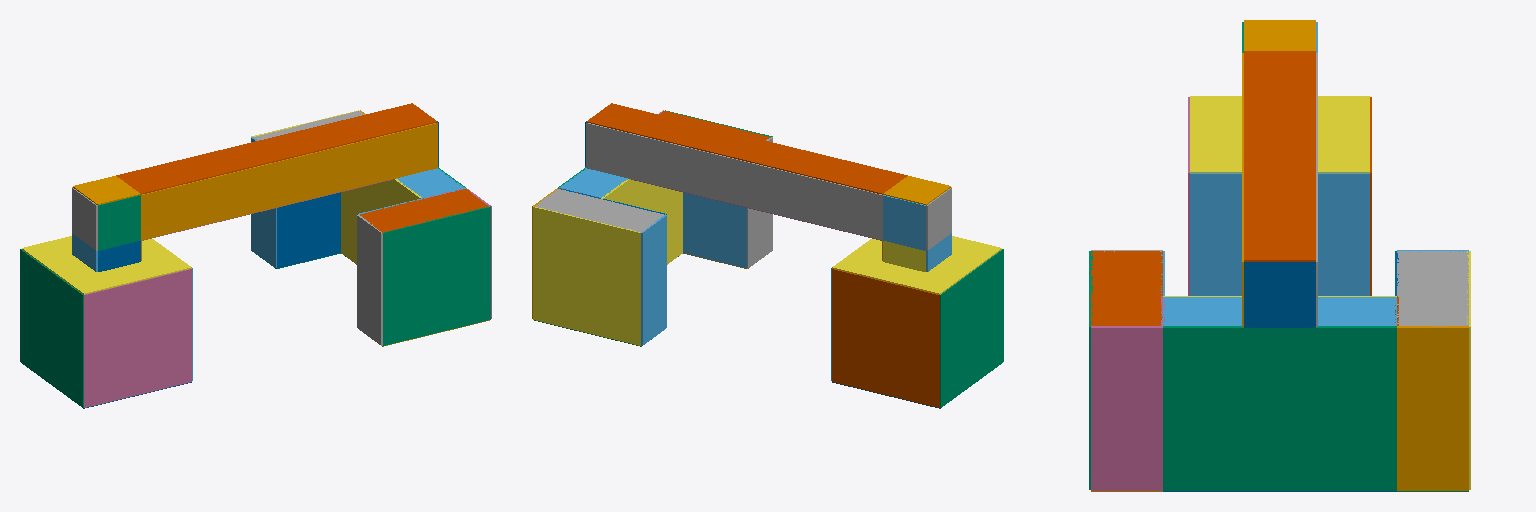
--- What the picture shows (computed from the rendered views, not written in the file) ---
The picture shows the robot from 3 angles, left to right: view 1: azimuth 30°, elevation 25°; view 2: azimuth 150°, elevation 25°; view 3: azimuth 270°, elevation 25°; orthographic projection.
Model robot with 65 links and 64 joints (2 continuous, 62 fixed), rooted at body, posed every joint at zero.
Visible links, largest first — view 1: arm_sensor_0_right, hand_3_sensor_0_right, body_sensor_0_right, arm_sensor_0_top, body_sensor_0_stop, body_sensor_0_top, hand_2_sensor_0_right, hand_3_sensor_0_stop, hand_3, hand_1_sensor_0_stop, joint_2_sensor_0_right, hand_2_sensor_0_stop (+6 smaller); view 2: arm_sensor_0_left, hand_2_sensor_0_left, body_sensor_0_left, arm_sensor_0_top, body_sensor_0_stop, body_sensor_0_top, hand_3_sensor_0_left, hand_2_sensor_0_stop, hand_2, hand_1_sensor_0_stop, joint_2_sensor_0_left, hand_3_sensor_0_stop (+6 smaller); view 3: hand_1_sensor_0_start, arm_sensor_0_top, body_sensor_0_start, hand_3_sensor_0_start, hand_2_sensor_0_start, body_sensor_0_top, hand_2, hand_3, arm_sensor_0_start, hand_1, joint_2_sensor_0_top, arm_sensor_0_left (+2 smaller).
Boxes of the visible links, bbox=[...] form: arm_sensor_0_right: bbox=[141, 123, 437, 240]; hand_3_sensor_0_right: bbox=[383, 206, 490, 345]; body_sensor_0_right: bbox=[84, 269, 191, 407]; arm_sensor_0_top: bbox=[116, 103, 436, 194]; body_sensor_0_stop: bbox=[20, 249, 83, 407]; body_sensor_0_top: bbox=[22, 236, 191, 294]; hand_2_sensor_0_right: bbox=[277, 192, 340, 268]; hand_3_sensor_0_stop: bbox=[357, 214, 382, 345]; hand_3: bbox=[360, 189, 488, 232]; hand_1_sensor_0_stop: bbox=[341, 179, 421, 264]; joint_2_sensor_0_right: bbox=[98, 195, 140, 250]; hand_2_sensor_0_stop: bbox=[251, 137, 276, 267]; arm_sensor_0_left: bbox=[586, 123, 882, 240]; hand_2_sensor_0_left: bbox=[533, 206, 640, 345]; body_sensor_0_left: bbox=[832, 269, 939, 407]; arm_sensor_0_top: bbox=[587, 103, 907, 194]; body_sensor_0_stop: bbox=[940, 249, 1003, 407]; body_sensor_0_top: bbox=[832, 236, 1001, 294]; hand_3_sensor_0_left: bbox=[683, 192, 746, 268]; hand_2_sensor_0_stop: bbox=[641, 214, 666, 345]; hand_2: bbox=[535, 189, 663, 232]; hand_1_sensor_0_stop: bbox=[601, 179, 682, 264]; joint_2_sensor_0_left: bbox=[883, 195, 925, 250]; hand_3_sensor_0_stop: bbox=[747, 137, 772, 267]; hand_1_sensor_0_start: bbox=[1163, 326, 1396, 490]; arm_sensor_0_top: bbox=[1244, 51, 1315, 261]; body_sensor_0_start: bbox=[1190, 173, 1369, 295]; hand_3_sensor_0_start: bbox=[1091, 326, 1162, 490]; hand_2_sensor_0_start: bbox=[1397, 326, 1468, 490]; body_sensor_0_top: bbox=[1190, 96, 1369, 172]; hand_2: bbox=[1397, 251, 1468, 326]; hand_3: bbox=[1091, 251, 1162, 325]; arm_sensor_0_start: bbox=[1244, 262, 1315, 327]; hand_1: bbox=[1163, 297, 1396, 325]; joint_2_sensor_0_top: bbox=[1244, 20, 1315, 50]; arm_sensor_0_left: bbox=[1316, 53, 1317, 326].
Bounding box of the posed robot: 3.47 × 2.12 × 1.62 m (x, y, z).
Geometry: primitives only (box / cylinder / sphere), no mesh files.

robot.urdf — robot:
<?xml version="1.0"?>
    <robot name="robot">


    <!-- body -->
    <link name="body">
        <inertial>
            <origin xyz="0 0 0" rpy="0 0 0"/>
            <mass value="100"/>
            <inertia ixx=".1" ixy=".1" ixz=".1" iyy=".1" iyz=".1" izz=".1"/>
        </inertial>
        <visual>
            <origin xyz="0 0 0" rpy="0 0 0"/>
            <geometry>
                <box size="1 1 1"/>
            </geometry>
        </visual>
        <collision>
            <origin xyz="0 0 0" rpy="0 0 0"/>
            <geometry>
                <box size="1 1 1"/>
            </geometry>
        </collision>
    </link>


    <!-- body_sensor_0_start -->
    <link name="body_sensor_0_start">
        <inertial>
            <origin xyz="0 0 0" rpy="0 0 0"/>
            <mass value="0"/>
            <inertia ixx=".1" ixy=".1" ixz=".1" iyy=".1" iyz=".1" izz=".1"/>
        </inertial>
        <visual>
            <origin xyz="0 0 0" rpy="0 0 0"/>
            <geometry>
                <box size="0.02 1 1"/>
            </geometry>
        </visual>
        <collision>
            <origin xyz="0 0 0" rpy="0 0 0"/>
            <geometry>
                <box size="0.02 1 1"/>
            </geometry>
        </collision>
    </link>
    <!-- Joint: body, body_sensor_0_start -->
    <joint name="body_body_sensor_0_start_joint" type="fixed">
        <parent link="body"/>
        <child link="body_sensor_0_start"/>
        <origin xyz="0.5 0 0"
                rpy="0 0 0"/>
        <axis xyz="0 0 1"/>
        
    </joint>


    <!-- body_sensor_0_stop -->
    <link name="body_sensor_0_stop">
        <inertial>
            <origin xyz="0 0 0" rpy="0 0 0"/>
            <mass value="0"/>
            <inertia ixx=".1" ixy=".1" ixz=".1" iyy=".1" iyz=".1" izz=".1"/>
        </inertial>
        <visual>
            <origin xyz="0 0 0" rpy="0 0 0"/>
            <geometry>
                <box size="0.02 1 1"/>
            </geometry>
        </visual>
        <collision>
            <origin xyz="0 0 0" rpy="0 0 0"/>
            <geometry>
                <box size="0.02 1 1"/>
            </geometry>
        </collision>
    </link>
    <!-- Joint: body, body_sensor_0_stop -->
    <joint name="body_body_sensor_0_stop_joint" type="fixed">
        <parent link="body"/>
        <child link="body_sensor_0_stop"/>
        <origin xyz="-0.5 0 0"
                rpy="0 0 0"/>
        <axis xyz="0 0 1"/>
        
    </joint>


    <!-- body_sensor_0_top -->
    <link name="body_sensor_0_top">
        <inertial>
            <origin xyz="0 0 0" rpy="0 0 0"/>
            <mass value="0"/>
            <inertia ixx=".1" ixy=".1" ixz=".1" iyy=".1" iyz=".1" izz=".1"/>
        </inertial>
        <visual>
            <origin xyz="0 0 0" rpy="0 0 0"/>
            <geometry>
                <box size="1.0 1 0.02"/>
            </geometry>
        </visual>
        <collision>
            <origin xyz="0 0 0" rpy="0 0 0"/>
            <geometry>
                <box size="1.0 1 0.02"/>
            </geometry>
        </collision>
    </link>
    <!-- Joint: body, body_sensor_0_top -->
    <joint name="body_body_sensor_0_top_joint" type="fixed">
        <parent link="body"/>
        <child link="body_sensor_0_top"/>
        <origin xyz="0 0 0.5"
                rpy="0 0 0"/>
        <axis xyz="0 0 1"/>
        
    </joint>


    <!-- body_sensor_0_bottom -->
    <link name="body_sensor_0_bottom">
        <inertial>
            <origin xyz="0 0 0" rpy="0 0 0"/>
            <mass value="0"/>
            <inertia ixx=".1" ixy=".1" ixz=".1" iyy=".1" iyz=".1" izz=".1"/>
        </inertial>
        <visual>
            <origin xyz="0 0 0" rpy="0 0 0"/>
            <geometry>
                <box size="1.0 1 0.02"/>
            </geometry>
        </visual>
        <collision>
            <origin xyz="0 0 0" rpy="0 0 0"/>
            <geometry>
                <box size="1.0 1 0.02"/>
            </geometry>
        </collision>
    </link>
    <!-- Joint: body, body_sensor_0_bottom -->
    <joint name="body_body_sensor_0_bottom_joint" type="fixed">
        <parent link="body"/>
        <child link="body_sensor_0_bottom"/>
        <origin xyz="0 0 -0.5"
                rpy="0 0 0"/>
        <axis xyz="0 0 1"/>
        
    </joint>


    <!-- body_sensor_0_left -->
    <link name="body_sensor_0_left">
        <inertial>
            <origin xyz="0 0 0" rpy="0 0 0"/>
            <mass value="0"/>
            <inertia ixx=".1" ixy=".1" ixz=".1" iyy=".1" iyz=".1" izz=".1"/>
        </inertial>
        <visual>
            <origin xyz="0 0 0" rpy="0 0 0"/>
            <geometry>
                <box size="1.0 0.02 1"/>
            </geometry>
        </visual>
        <collision>
            <origin xyz="0 0 0" rpy="0 0 0"/>
            <geometry>
                <box size="1.0 0.02 1"/>
            </geometry>
        </collision>
    </link>
    <!-- Joint: body, body_sensor_0_left -->
    <joint name="body_body_sensor_0_left_joint" type="fixed">
        <parent link="body"/>
        <child link="body_sensor_0_left"/>
        <origin xyz="0 0.5 0"
                rpy="0 0 0"/>
        <axis xyz="0 0 1"/>
        
    </joint>


    <!-- body_sensor_0_right -->
    <link name="body_sensor_0_right">
        <inertial>
            <origin xyz="0 0 0" rpy="0 0 0"/>
            <mass value="0"/>
            <inertia ixx=".1" ixy=".1" ixz=".1" iyy=".1" iyz=".1" izz=".1"/>
        </inertial>
        <visual>
            <origin xyz="0 0 0" rpy="0 0 0"/>
            <geometry>
                <box size="1.0 0.02 1"/>
            </geometry>
        </visual>
        <collision>
            <origin xyz="0 0 0" rpy="0 0 0"/>
            <geometry>
                <box size="1.0 0.02 1"/>
            </geometry>
        </collision>
    </link>
    <!-- Joint: body, body_sensor_0_right -->
    <joint name="body_body_sensor_0_right_joint" type="fixed">
        <parent link="body"/>
        <child link="body_sensor_0_right"/>
        <origin xyz="0 -0.5 0"
                rpy="0 0 0"/>
        <axis xyz="0 0 1"/>
        
    </joint>


    <!-- joint_1 -->
    <link name="joint_1">
        <inertial>
            <origin xyz="0 0 0" rpy="0 0 0"/>
            <mass value="2"/>
            <inertia ixx=".1" ixy=".1" ixz=".1" iyy=".1" iyz=".1" izz=".1"/>
        </inertial>
        <visual>
            <origin xyz="0 0 0" rpy="0 0 0"/>
            <geometry>
                <box size="0.4 0.4 0.2"/>
            </geometry>
        </visual>
        <collision>
            <origin xyz="0 0 0" rpy="0 0 0"/>
            <geometry>
                <box size="0.4 0.4 0.2"/>
            </geometry>
        </collision>
    </link>


    <!-- joint_1_sensor_0_start -->
    <link name="joint_1_sensor_0_start">
        <inertial>
            <origin xyz="0 0 0" rpy="0 0 0"/>
            <mass value="0"/>
            <inertia ixx=".1" ixy=".1" ixz=".1" iyy=".1" iyz=".1" izz=".1"/>
        </inertial>
        <visual>
            <origin xyz="0 0 0" rpy="0 0 0"/>
            <geometry>
                <box size="0.02 0.4 0.2"/>
            </geometry>
        </visual>
        <collision>
            <origin xyz="0 0 0" rpy="0 0 0"/>
            <geometry>
                <box size="0.02 0.4 0.2"/>
            </geometry>
        </collision>
    </link>
    <!-- Joint: joint_1, joint_1_sensor_0_start -->
    <joint name="joint_1_joint_1_sensor_0_start_joint" type="fixed">
        <parent link="joint_1"/>
        <child link="joint_1_sensor_0_start"/>
        <origin xyz="0.2 0 0"
                rpy="0 0 0"/>
        <axis xyz="0 0 1"/>
        
    </joint>


    <!-- joint_1_sensor_0_stop -->
    <link name="joint_1_sensor_0_stop">
        <inertial>
            <origin xyz="0 0 0" rpy="0 0 0"/>
            <mass value="0"/>
            <inertia ixx=".1" ixy=".1" ixz=".1" iyy=".1" iyz=".1" izz=".1"/>
        </inertial>
        <visual>
            <origin xyz="0 0 0" rpy="0 0 0"/>
            <geometry>
                <box size="0.02 0.4 0.2"/>
            </geometry>
        </visual>
        <collision>
            <origin xyz="0 0 0" rpy="0 0 0"/>
            <geometry>
                <box size="0.02 0.4 0.2"/>
            </geometry>
        </collision>
    </link>
    <!-- Joint: joint_1, joint_1_sensor_0_stop -->
    <joint name="joint_1_joint_1_sensor_0_stop_joint" type="fixed">
        <parent link="joint_1"/>
        <child link="joint_1_sensor_0_stop"/>
        <origin xyz="-0.2 0 0"
                rpy="0 0 0"/>
        <axis xyz="0 0 1"/>
        
    </joint>


    <!-- joint_1_sensor_0_top -->
    <link name="joint_1_sensor_0_top">
        <inertial>
            <origin xyz="0 0 0" rpy="0 0 0"/>
            <mass value="0"/>
            <inertia ixx=".1" ixy=".1" ixz=".1" iyy=".1" iyz=".1" izz=".1"/>
        </inertial>
        <visual>
            <origin xyz="0 0 0" rpy="0 0 0"/>
            <geometry>
                <box size="0.4 0.4 0.02"/>
            </geometry>
        </visual>
        <collision>
            <origin xyz="0 0 0" rpy="0 0 0"/>
            <geometry>
                <box size="0.4 0.4 0.02"/>
            </geometry>
        </collision>
    </link>
    <!-- Joint: joint_1, joint_1_sensor_0_top -->
    <joint name="joint_1_joint_1_sensor_0_top_joint" type="fixed">
        <parent link="joint_1"/>
        <child link="joint_1_sensor_0_top"/>
        <origin xyz="0 0 0.1"
                rpy="0 0 0"/>
        <axis xyz="0 0 1"/>
        
    </joint>


    <!-- joint_1_sensor_0_left -->
    <link name="joint_1_sensor_0_left">
        <inertial>
            <origin xyz="0 0 0" rpy="0 0 0"/>
            <mass value="0"/>
            <inertia ixx=".1" ixy=".1" ixz=".1" iyy=".1" iyz=".1" izz=".1"/>
        </inertial>
        <visual>
            <origin xyz="0 0 0" rpy="0 0 0"/>
            <geometry>
                <box size="0.4 0.02 0.2"/>
            </geometry>
        </visual>
        <collision>
            <origin xyz="0 0 0" rpy="0 0 0"/>
            <geometry>
                <box size="0.4 0.02 0.2"/>
            </geometry>
        </collision>
    </link>
    <!-- Joint: joint_1, joint_1_sensor_0_left -->
    <joint name="joint_1_joint_1_sensor_0_left_joint" type="fixed">
        <parent link="joint_1"/>
        <child link="joint_1_sensor_0_left"/>
        <origin xyz="0 0.2 0"
                rpy="0 0 0"/>
        <axis xyz="0 0 1"/>
        
    </joint>


    <!-- joint_1_sensor_0_right -->
    <link name="joint_1_sensor_0_right">
        <inertial>
            <origin xyz="0 0 0" rpy="0 0 0"/>
            <mass value="0"/>
            <inertia ixx=".1" ixy=".1" ixz=".1" iyy=".1" iyz=".1" izz=".1"/>
        </inertial>
        <visual>
            <origin xyz="0 0 0" rpy="0 0 0"/>
            <geometry>
                <box size="0.4 0.02 0.2"/>
            </geometry>
        </visual>
        <collision>
            <origin xyz="0 0 0" rpy="0 0 0"/>
            <geometry>
                <box size="0.4 0.02 0.2"/>
            </geometry>
        </collision>
    </link>
    <!-- Joint: joint_1, joint_1_sensor_0_right -->
    <joint name="joint_1_joint_1_sensor_0_right_joint" type="fixed">
        <parent link="joint_1"/>
        <child link="joint_1_sensor_0_right"/>
        <origin xyz="0 -0.2 0"
                rpy="0 0 0"/>
        <axis xyz="0 0 1"/>
        
    </joint>
    <!-- Joint: body, joint_1 -->
    <joint name="body_joint_1_joint" type="continuous">
        <parent link="body"/>
        <child link="joint_1"/>
        <origin xyz="0 0 0.6"
                rpy="0 0 0"/>
        <axis xyz="0 0 1"/>
        <limit lower="0" upper="0" effort="0" velocity="0"/>
    </joint>


    <!-- joint_2 -->
    <link name="joint_2">
        <inertial>
            <origin xyz="0 0 0" rpy="0 0 0"/>
            <mass value="2"/>
            <inertia ixx=".1" ixy=".1" ixz=".1" iyy=".1" iyz=".1" izz=".1"/>
        </inertial>
        <visual>
            <origin xyz="0 0 0" rpy="0 0 0"/>
            <geometry>
                <box size="0.4 0.4 0.4"/>
            </geometry>
        </visual>
        <collision>
            <origin xyz="0 0 0" rpy="0 0 0"/>
            <geometry>
                <box size="0.4 0.4 0.4"/>
            </geometry>
        </collision>
    </link>


    <!-- joint_2_sensor_0_start -->
    <link name="joint_2_sensor_0_start">
        <inertial>
            <origin xyz="0 0 0" rpy="0 0 0"/>
            <mass value="0"/>
            <inertia ixx=".1" ixy=".1" ixz=".1" iyy=".1" iyz=".1" izz=".1"/>
        </inertial>
        <visual>
            <origin xyz="0 0 0" rpy="0 0 0"/>
            <geometry>
                <box size="0.02 0.4 0.4"/>
            </geometry>
        </visual>
        <collision>
            <origin xyz="0 0 0" rpy="0 0 0"/>
            <geometry>
                <box size="0.02 0.4 0.4"/>
            </geometry>
        </collision>
    </link>
    <!-- Joint: joint_2, joint_2_sensor_0_start -->
    <joint name="joint_2_joint_2_sensor_0_start_joint" type="fixed">
        <parent link="joint_2"/>
        <child link="joint_2_sensor_0_start"/>
        <origin xyz="0.2 0 0"
                rpy="0 0 0"/>
        <axis xyz="0 1 0"/>
        
    </joint>


    <!-- joint_2_sensor_0_stop -->
    <link name="joint_2_sensor_0_stop">
        <inertial>
            <origin xyz="0 0 0" rpy="0 0 0"/>
            <mass value="0"/>
            <inertia ixx=".1" ixy=".1" ixz=".1" iyy=".1" iyz=".1" izz=".1"/>
        </inertial>
        <visual>
            <origin xyz="0 0 0" rpy="0 0 0"/>
            <geometry>
                <box size="0.02 0.4 0.4"/>
            </geometry>
        </visual>
        <collision>
            <origin xyz="0 0 0" rpy="0 0 0"/>
            <geometry>
                <box size="0.02 0.4 0.4"/>
            </geometry>
        </collision>
    </link>
    <!-- Joint: joint_2, joint_2_sensor_0_stop -->
    <joint name="joint_2_joint_2_sensor_0_stop_joint" type="fixed">
        <parent link="joint_2"/>
        <child link="joint_2_sensor_0_stop"/>
        <origin xyz="-0.2 0 0"
                rpy="0 0 0"/>
        <axis xyz="0 1 0"/>
        
    </joint>


    <!-- joint_2_sensor_0_top -->
    <link name="joint_2_sensor_0_top">
        <inertial>
            <origin xyz="0 0 0" rpy="0 0 0"/>
            <mass value="0"/>
            <inertia ixx=".1" ixy=".1" ixz=".1" iyy=".1" iyz=".1" izz=".1"/>
        </inertial>
        <visual>
            <origin xyz="0 0 0" rpy="0 0 0"/>
            <geometry>
                <box size="0.4 0.4 0.02"/>
            </geometry>
        </visual>
        <collision>
            <origin xyz="0 0 0" rpy="0 0 0"/>
            <geometry>
                <box size="0.4 0.4 0.02"/>
            </geometry>
        </collision>
    </link>
    <!-- Joint: joint_2, joint_2_sensor_0_top -->
    <joint name="joint_2_joint_2_sensor_0_top_joint" type="fixed">
        <parent link="joint_2"/>
        <child link="joint_2_sensor_0_top"/>
        <origin xyz="0 0 0.2"
                rpy="0 0 0"/>
        <axis xyz="0 1 0"/>
        
    </joint>


    <!-- joint_2_sensor_0_left -->
    <link name="joint_2_sensor_0_left">
        <inertial>
            <origin xyz="0 0 0" rpy="0 0 0"/>
            <mass value="0"/>
            <inertia ixx=".1" ixy=".1" ixz=".1" iyy=".1" iyz=".1" izz=".1"/>
        </inertial>
        <visual>
            <origin xyz="0 0 0" rpy="0 0 0"/>
            <geometry>
                <box size="0.4 0.02 0.4"/>
            </geometry>
        </visual>
        <collision>
            <origin xyz="0 0 0" rpy="0 0 0"/>
            <geometry>
                <box size="0.4 0.02 0.4"/>
            </geometry>
        </collision>
    </link>
    <!-- Joint: joint_2, joint_2_sensor_0_left -->
    <joint name="joint_2_joint_2_sensor_0_left_joint" type="fixed">
        <parent link="joint_2"/>
        <child link="joint_2_sensor_0_left"/>
        <origin xyz="0 0.2 0"
                rpy="0 0 0"/>
        <axis xyz="0 1 0"/>
        
    </joint>


    <!-- joint_2_sensor_0_right -->
    <link name="joint_2_sensor_0_right">
        <inertial>
            <origin xyz="0 0 0" rpy="0 0 0"/>
            <mass value="0"/>
            <inertia ixx=".1" ixy=".1" ixz=".1" iyy=".1" iyz=".1" izz=".1"/>
        </inertial>
        <visual>
            <origin xyz="0 0 0" rpy="0 0 0"/>
            <geometry>
                <box size="0.4 0.02 0.4"/>
            </geometry>
        </visual>
        <collision>
            <origin xyz="0 0 0" rpy="0 0 0"/>
            <geometry>
                <box size="0.4 0.02 0.4"/>
            </geometry>
        </collision>
    </link>
    <!-- Joint: joint_2, joint_2_sensor_0_right -->
    <joint name="joint_2_joint_2_sensor_0_right_joint" type="fixed">
        <parent link="joint_2"/>
        <child link="joint_2_sensor_0_right"/>
        <origin xyz="0 -0.2 0"
                rpy="0 0 0"/>
        <axis xyz="0 1 0"/>
        
    </joint>
    <!-- Joint: joint_1, joint_2 -->
    <joint name="joint_1_joint_2_joint" type="continuous">
        <parent link="joint_1"/>
        <child link="joint_2"/>
        <origin xyz="0 0 0.3"
                rpy="0 0 0"/>
        <axis xyz="0 1 0"/>
        <limit lower="0" upper="0" effort="0" velocity="0"/>
    </joint>


    <!-- arm -->
    <link name="arm">
        <inertial>
            <origin xyz="0 0 0" rpy="0 0 0"/>
            <mass value="2"/>
            <inertia ixx=".1" ixy=".1" ixz=".1" iyy=".1" iyz=".1" izz=".1"/>
        </inertial>
        <visual>
            <origin xyz="0 0 0" rpy="0 0 0"/>
            <geometry>
                <box size="2.75 0.4 0.4"/>
            </geometry>
        </visual>
        <collision>
            <origin xyz="0 0 0" rpy="0 0 0"/>
            <geometry>
                <box size="2.75 0.4 0.4"/>
            </geometry>
        </collision>
    </link>


    <!-- arm_sensor_0_start -->
    <link name="arm_sensor_0_start">
        <inertial>
            <origin xyz="0 0 0" rpy="0 0 0"/>
            <mass value="0"/>
            <inertia ixx=".1" ixy=".1" ixz=".1" iyy=".1" iyz=".1" izz=".1"/>
        </inertial>
        <visual>
            <origin xyz="0 0 0" rpy="0 0 0"/>
            <geometry>
                <box size="0.02 0.4 0.4"/>
            </geometry>
        </visual>
        <collision>
            <origin xyz="0 0 0" rpy="0 0 0"/>
            <geometry>
                <box size="0.02 0.4 0.4"/>
            </geometry>
        </collision>
    </link>
    <!-- Joint: arm, arm_sensor_0_start -->
    <joint name="arm_arm_sensor_0_start_joint" type="fixed">
        <parent link="arm"/>
        <child link="arm_sensor_0_start"/>
        <origin xyz="1.375 0 0"
                rpy="0 0 0"/>
        <axis xyz="0 1 0"/>
        
    </joint>


    <!-- arm_sensor_0_top -->
    <link name="arm_sensor_0_top">
        <inertial>
            <origin xyz="0 0 0" rpy="0 0 0"/>
            <mass value="0"/>
            <inertia ixx=".1" ixy=".1" ixz=".1" iyy=".1" iyz=".1" izz=".1"/>
        </inertial>
        <visual>
            <origin xyz="0 0 0" rpy="0 0 0"/>
            <geometry>
                <box size="2.75 0.4 0.02"/>
            </geometry>
        </visual>
        <collision>
            <origin xyz="0 0 0" rpy="0 0 0"/>
            <geometry>
                <box size="2.75 0.4 0.02"/>
            </geometry>
        </collision>
    </link>
    <!-- Joint: arm, arm_sensor_0_top -->
    <joint name="arm_arm_sensor_0_top_joint" type="fixed">
        <parent link="arm"/>
        <child link="arm_sensor_0_top"/>
        <origin xyz="0 0 0.2"
                rpy="0 0 0"/>
        <axis xyz="0 1 0"/>
        
    </joint>


    <!-- arm_sensor_0_bottom -->
    <link name="arm_sensor_0_bottom">
        <inertial>
            <origin xyz="0 0 0" rpy="0 0 0"/>
            <mass value="0"/>
            <inertia ixx=".1" ixy=".1" ixz=".1" iyy=".1" iyz=".1" izz=".1"/>
        </inertial>
        <visual>
            <origin xyz="0 0 0" rpy="0 0 0"/>
            <geometry>
                <box size="2.75 0.4 0.02"/>
            </geometry>
        </visual>
        <collision>
            <origin xyz="0 0 0" rpy="0 0 0"/>
            <geometry>
                <box size="2.75 0.4 0.02"/>
            </geometry>
        </collision>
    </link>
    <!-- Joint: arm, arm_sensor_0_bottom -->
    <joint name="arm_arm_sensor_0_bottom_joint" type="fixed">
        <parent link="arm"/>
        <child link="arm_sensor_0_bottom"/>
        <origin xyz="0 0 -0.2"
                rpy="0 0 0"/>
        <axis xyz="0 1 0"/>
        
    </joint>


    <!-- arm_sensor_0_left -->
    <link name="arm_sensor_0_left">
        <inertial>
            <origin xyz="0 0 0" rpy="0 0 0"/>
            <mass value="0"/>
            <inertia ixx=".1" ixy=".1" ixz=".1" iyy=".1" iyz=".1" izz=".1"/>
        </inertial>
        <visual>
            <origin xyz="0 0 0" rpy="0 0 0"/>
            <geometry>
                <box size="2.75 0.02 0.4"/>
            </geometry>
        </visual>
        <collision>
            <origin xyz="0 0 0" rpy="0 0 0"/>
            <geometry>
                <box size="2.75 0.02 0.4"/>
            </geometry>
        </collision>
    </link>
    <!-- Joint: arm, arm_sensor_0_left -->
    <joint name="arm_arm_sensor_0_left_joint" type="fixed">
        <parent link="arm"/>
        <child link="arm_sensor_0_left"/>
        <origin xyz="0 0.2 0"
                rpy="0 0 0"/>
        <axis xyz="0 1 0"/>
        
    </joint>


    <!-- arm_sensor_0_right -->
    <link name="arm_sensor_0_right">
        <inertial>
            <origin xyz="0 0 0" rpy="0 0 0"/>
            <mass value="0"/>
            <inertia ixx=".1" ixy=".1" ixz=".1" iyy=".1" iyz=".1" izz=".1"/>
        </inertial>
        <visual>
            <origin xyz="0 0 0" rpy="0 0 0"/>
            <geometry>
                <box size="2.75 0.02 0.4"/>
            </geometry>
        </visual>
        <collision>
            <origin xyz="0 0 0" rpy="0 0 0"/>
            <geometry>
                <box size="2.75 0.02 0.4"/>
            </geometry>
        </collision>
    </link>
    <!-- Joint: arm, arm_sensor_0_right -->
    <joint name="arm_arm_sensor_0_right_joint" type="fixed">
        <parent link="arm"/>
        <child link="arm_sensor_0_right"/>
        <origin xyz="0 -0.2 0"
                rpy="0 0 0"/>
        <axis xyz="0 1 0"/>
        
    </joint>
    <!-- Joint: joint_2, arm -->
    <joint name="joint_2_arm_joint" type="fixed">
        <parent link="joint_2"/>
        <child link="arm"/>
        <origin xyz="1.575 0 0"
                rpy="0 0 0"/>
        <axis xyz="0 1 0"/>
        
    </joint>


    <!-- hand_1 -->
    <link name="hand_1">
        <inertial>
            <origin xyz="0 0 0" rpy="0 0 0"/>
            <mass value="2"/>
            <inertia ixx=".1" ixy=".1" ixz=".1" iyy=".1" iyz=".1" izz=".1"/>
        </inertial>
        <visual>
            <origin xyz="0 0 0" rpy="0 0 0"/>
            <geometry>
                <box size="0.4 1.3 1"/>
            </geometry>
        </visual>
        <collision>
            <origin xyz="0 0 0" rpy="0 0 0"/>
            <geometry>
                <box size="0.4 1.3 1"/>
            </geometry>
        </collision>
    </link>


    <!-- hand_1_sensor_0_start -->
    <link name="hand_1_sensor_0_start">
        <inertial>
            <origin xyz="0 0 0" rpy="0 0 0"/>
            <mass value="0"/>
            <inertia ixx=".1" ixy=".1" ixz=".1" iyy=".1" iyz=".1" izz=".1"/>
        </inertial>
        <visual>
            <origin xyz="0 0 0" rpy="0 0 0"/>
            <geometry>
                <box size="0.02 1.3 1"/>
            </geometry>
        </visual>
        <collision>
            <origin xyz="0 0 0" rpy="0 0 0"/>
            <geometry>
                <box size="0.02 1.3 1"/>
            </geometry>
        </collision>
    </link>
    <!-- Joint: hand_1, hand_1_sensor_0_start -->
    <joint name="hand_1_hand_1_sensor_0_start_joint" type="fixed">
        <parent link="hand_1"/>
        <child link="hand_1_sensor_0_start"/>
        <origin xyz="0.2 0 0"
                rpy="0 0 0"/>
        <axis xyz="0 1 0"/>
        
    </joint>


    <!-- hand_1_sensor_0_stop -->
    <link name="hand_1_sensor_0_stop">
        <inertial>
            <origin xyz="0 0 0" rpy="0 0 0"/>
            <mass value="0"/>
            <inertia ixx=".1" ixy=".1" ixz=".1" iyy=".1" iyz=".1" izz=".1"/>
        </inertial>
        <visual>
            <origin xyz="0 0 0" rpy="0 0 0"/>
            <geometry>
                <box size="0.02 1.3 1"/>
            </geometry>
        </visual>
        <collision>
            <origin xyz="0 0 0" rpy="0 0 0"/>
            <geometry>
                <box size="0.02 1.3 1"/>
            </geometry>
        </collision>
    </link>
    <!-- Joint: hand_1, hand_1_sensor_0_stop -->
    <joint name="hand_1_hand_1_sensor_0_stop_joint" type="fixed">
        <parent link="hand_1"/>
        <child link="hand_1_sensor_0_stop"/>
        <origin xyz="-0.2 0 0"
                rpy="0 0 0"/>
        <axis xyz="0 1 0"/>
        
    </joint>


    <!-- hand_1_sensor_0_bottom -->
    <link name="hand_1_sensor_0_bottom">
        <inertial>
            <origin xyz="0 0 0" rpy="0 0 0"/>
            <mass value="0"/>
            <inertia ixx=".1" ixy=".1" ixz=".1" iyy=".1" iyz=".1" izz=".1"/>
        </inertial>
        <visual>
            <origin xyz="0 0 0" rpy="0 0 0"/>
            <geometry>
                <box size="0.4 1.3 0.02"/>
            </geometry>
        </visual>
        <collision>
            <origin xyz="0 0 0" rpy="0 0 0"/>
            <geometry>
                <box size="0.4 1.3 0.02"/>
            </geometry>
        </collision>
    </link>
    <!-- Joint: hand_1, hand_1_sensor_0_bottom -->
    <joint name="hand_1_hand_1_sensor_0_bottom_joint" type="fixed">
        <parent link="hand_1"/>
        <child link="hand_1_sensor_0_bottom"/>
        <origin xyz="0 0 -0.5"
                rpy="0 0 0"/>
        <axis xyz="0 1 0"/>
        
    </joint>


    <!-- hand_1_sensor_0_left -->
    <link name="hand_1_sensor_0_left">
        <inertial>
            <origin xyz="0 0 0" rpy="0 0 0"/>
            <mass value="0"/>
            <inertia ixx=".1" ixy=".1" ixz=".1" iyy=".1" iyz=".1" izz=".1"/>
        </inertial>
        <visual>
            <origin xyz="0 0 0" rpy="0 0 0"/>
            <geometry>
                <box size="0.4 0.02 1"/>
            </geometry>
        </visual>
        <collision>
            <origin xyz="0 0 0" rpy="0 0 0"/>
            <geometry>
                <box size="0.4 0.02 1"/>
            </geometry>
        </collision>
    </link>
    <!-- Joint: hand_1, hand_1_sensor_0_left -->
    <joint name="hand_1_hand_1_sensor_0_left_joint" type="fixed">
        <parent link="hand_1"/>
        <child link="hand_1_sensor_0_left"/>
        <origin xyz="0 0.65 0"
                rpy="0 0 0"/>
        <axis xyz="0 1 0"/>
        
    </joint>


    <!-- hand_1_sensor_0_right -->
    <link name="hand_1_sensor_0_right">
        <inertial>
            <origin xyz="0 0 0" rpy="0 0 0"/>
            <mass value="0"/>
            <inertia ixx=".1" ixy=".1" ixz=".1" iyy=".1" iyz=".1" izz=".1"/>
        </inertial>
        <visual>
            <origin xyz="0 0 0" rpy="0 0 0"/>
            <geometry>
                <box size="0.4 0.02 1"/>
            </geometry>
        </visual>
        <collision>
            <origin xyz="0 0 0" rpy="0 0 0"/>
            <geometry>
                <box size="0.4 0.02 1"/>
            </geometry>
        </collision>
    </link>
    <!-- Joint: hand_1, hand_1_sensor_0_right -->
    <joint name="hand_1_hand_1_sensor_0_right_joint" type="fixed">
        <parent link="hand_1"/>
        <child link="hand_1_sensor_0_right"/>
        <origin xyz="0 -0.65 0"
                rpy="0 0 0"/>
        <axis xyz="0 1 0"/>
        
    </joint>
    <!-- Joint: arm, hand_1 -->
    <joint name="arm_hand_1_joint" type="fixed">
        <parent link="arm"/>
        <child link="hand_1"/>
        <origin xyz="1.175 0 -0.7"
                rpy="0 0 0"/>
        <axis xyz="0 1 0"/>
        
    </joint>


    <!-- hand_2 -->
    <link name="hand_2">
        <inertial>
            <origin xyz="0 0 0" rpy="0 0 0"/>
            <mass value="2"/>
            <inertia ixx=".1" ixy=".1" ixz=".1" iyy=".1" iyz=".1" izz=".1"/>
        </inertial>
        <visual>
            <origin xyz="0 0 0" rpy="0 0 0"/>
            <geometry>
                <box size="1 0.4 1"/>
            </geometry>
        </visual>
        <collision>
            <origin xyz="0 0 0" rpy="0 0 0"/>
            <geometry>
                <box size="1 0.4 1"/>
            </geometry>
        </collision>
    </link>


    <!-- hand_2_sensor_0_start -->
    <link name="hand_2_sensor_0_start">
        <inertial>
            <origin xyz="0 0 0" rpy="0 0 0"/>
            <mass value="0"/>
            <inertia ixx=".1" ixy=".1" ixz=".1" iyy=".1" iyz=".1" izz=".1"/>
        </inertial>
        <visual>
            <origin xyz="0 0 0" rpy="0 0 0"/>
            <geometry>
                <box size="0.02 0.4 1"/>
            </geometry>
        </visual>
        <collision>
            <origin xyz="0 0 0" rpy="0 0 0"/>
            <geometry>
                <box size="0.02 0.4 1"/>
            </geometry>
        </collision>
    </link>
    <!-- Joint: hand_2, hand_2_sensor_0_start -->
    <joint name="hand_2_hand_2_sensor_0_start_joint" type="fixed">
        <parent link="hand_2"/>
        <child link="hand_2_sensor_0_start"/>
        <origin xyz="0.5 0 0"
                rpy="0 0 0"/>
        <axis xyz="0 1 0"/>
        
    </joint>


    <!-- hand_2_sensor_0_stop -->
    <link name="hand_2_sensor_0_stop">
        <inertial>
            <origin xyz="0 0 0" rpy="0 0 0"/>
            <mass value="0"/>
            <inertia ixx=".1" ixy=".1" ixz=".1" iyy=".1" iyz=".1" izz=".1"/>
        </inertial>
        <visual>
            <origin xyz="0 0 0" rpy="0 0 0"/>
            <geometry>
                <box size="0.02 0.4 1"/>
            </geometry>
        </visual>
        <collision>
            <origin xyz="0 0 0" rpy="0 0 0"/>
            <geometry>
                <box size="0.02 0.4 1"/>
            </geometry>
        </collision>
    </link>
    <!-- Joint: hand_2, hand_2_sensor_0_stop -->
    <joint name="hand_2_hand_2_sensor_0_stop_joint" type="fixed">
        <parent link="hand_2"/>
        <child link="hand_2_sensor_0_stop"/>
        <origin xyz="-0.5 0 0"
                rpy="0 0 0"/>
        <axis xyz="0 1 0"/>
        
    </joint>


    <!-- hand_2_sensor_0_bottom -->
    <link name="hand_2_sensor_0_bottom">
        <inertial>
            <origin xyz="0 0 0" rpy="0 0 0"/>
            <mass value="0"/>
            <inertia ixx=".1" ixy=".1" ixz=".1" iyy=".1" iyz=".1" izz=".1"/>
        </inertial>
        <visual>
            <origin xyz="0 0 0" rpy="0 0 0"/>
            <geometry>
                <box size="1.0 0.4 0.02"/>
            </geometry>
        </visual>
        <collision>
            <origin xyz="0 0 0" rpy="0 0 0"/>
            <geometry>
                <box size="1.0 0.4 0.02"/>
            </geometry>
        </collision>
    </link>
    <!-- Joint: hand_2, hand_2_sensor_0_bottom -->
    <joint name="hand_2_hand_2_sensor_0_bottom_joint" type="fixed">
        <parent link="hand_2"/>
        <child link="hand_2_sensor_0_bottom"/>
        <origin xyz="0 0 -0.5"
                rpy="0 0 0"/>
        <axis xyz="0 1 0"/>
        
    </joint>


    <!-- hand_2_sensor_0_left -->
    <link name="hand_2_sensor_0_left">
        <inertial>
            <origin xyz="0 0 0" rpy="0 0 0"/>
            <mass value="0"/>
            <inertia ixx=".1" ixy=".1" ixz=".1" iyy=".1" iyz=".1" izz=".1"/>
        </inertial>
        <visual>
            <origin xyz="0 0 0" rpy="0 0 0"/>
            <geometry>
                <box size="1.0 0.02 1"/>
            </geometry>
        </visual>
        <collision>
            <origin xyz="0 0 0" rpy="0 0 0"/>
            <geometry>
                <box size="1.0 0.02 1"/>
            </geometry>
        </collision>
    </link>
    <!-- Joint: hand_2, hand_2_sensor_0_left -->
    <joint name="hand_2_hand_2_sensor_0_left_joint" type="fixed">
        <parent link="hand_2"/>
        <child link="hand_2_sensor_0_left"/>
        <origin xyz="0 0.2 0"
                rpy="0 0 0"/>
        <axis xyz="0 1 0"/>
        
    </joint>


    <!-- hand_2_sensor_0_right -->
    <link name="hand_2_sensor_0_right">
        <inertial>
            <origin xyz="0 0 0" rpy="0 0 0"/>
            <mass value="0"/>
            <inertia ixx=".1" ixy=".1" ixz=".1" iyy=".1" iyz=".1" izz=".1"/>
        </inertial>
        <visual>
            <origin xyz="0 0 0" rpy="0 0 0"/>
            <geometry>
                <box size="1.0 0.02 1"/>
            </geometry>
        </visual>
        <collision>
            <origin xyz="0 0 0" rpy="0 0 0"/>
            <geometry>
                <box size="1.0 0.02 1"/>
            </geometry>
        </collision>
    </link>
    <!-- Joint: hand_2, hand_2_sensor_0_right -->
    <joint name="hand_2_hand_2_sensor_0_right_joint" type="fixed">
        <parent link="hand_2"/>
        <child link="hand_2_sensor_0_right"/>
        <origin xyz="0 -0.2 0"
                rpy="0 0 0"/>
        <axis xyz="0 1 0"/>
        
    </joint>
    <!-- Joint: hand_1, hand_2 -->
    <joint name="hand_1_hand_2_joint" type="fixed">
        <parent link="hand_1"/>
        <child link="hand_2"/>
        <origin xyz="-0.3 0.8500000000000001 0"
                rpy="0 0 0"/>
        <axis xyz="0 1 0"/>
        
    </joint>


    <!-- hand_3 -->
    <link name="hand_3">
        <inertial>
            <origin xyz="0 0 0" rpy="0 0 0"/>
            <mass value="2"/>
            <inertia ixx=".1" ixy=".1" ixz=".1" iyy=".1" iyz=".1" izz=".1"/>
        </inertial>
        <visual>
            <origin xyz="0 0 0" rpy="0 0 0"/>
            <geometry>
                <box size="1 0.4 1"/>
            </geometry>
        </visual>
        <collision>
            <origin xyz="0 0 0" rpy="0 0 0"/>
            <geometry>
                <box size="1 0.4 1"/>
            </geometry>
        </collision>
    </link>


    <!-- hand_3_sensor_0_start -->
    <link name="hand_3_sensor_0_start">
        <inertial>
            <origin xyz="0 0 0" rpy="0 0 0"/>
            <mass value="0"/>
            <inertia ixx=".1" ixy=".1" ixz=".1" iyy=".1" iyz=".1" izz=".1"/>
        </inertial>
        <visual>
            <origin xyz="0 0 0" rpy="0 0 0"/>
            <geometry>
                <box size="0.02 0.4 1"/>
            </geometry>
        </visual>
        <collision>
            <origin xyz="0 0 0" rpy="0 0 0"/>
            <geometry>
                <box size="0.02 0.4 1"/>
            </geometry>
        </collision>
    </link>
    <!-- Joint: hand_3, hand_3_sensor_0_start -->
    <joint name="hand_3_hand_3_sensor_0_start_joint" type="fixed">
        <parent link="hand_3"/>
        <child link="hand_3_sensor_0_start"/>
        <origin xyz="0.5 0 0"
                rpy="0 0 0"/>
        <axis xyz="0 1 0"/>
        
    </joint>


    <!-- hand_3_sensor_0_stop -->
    <link name="hand_3_sensor_0_stop">
        <inertial>
            <origin xyz="0 0 0" rpy="0 0 0"/>
            <mass value="0"/>
            <inertia ixx=".1" ixy=".1" ixz=".1" iyy=".1" iyz=".1" izz=".1"/>
        </inertial>
        <visual>
            <origin xyz="0 0 0" rpy="0 0 0"/>
            <geometry>
                <box size="0.02 0.4 1"/>
            </geometry>
        </visual>
        <collision>
            <origin xyz="0 0 0" rpy="0 0 0"/>
            <geometry>
                <box size="0.02 0.4 1"/>
            </geometry>
        </collision>
    </link>
    <!-- Joint: hand_3, hand_3_sensor_0_stop -->
    <joint name="hand_3_hand_3_sensor_0_stop_joint" type="fixed">
        <parent link="hand_3"/>
        <child link="hand_3_sensor_0_stop"/>
        <origin xyz="-0.5 0 0"
                rpy="0 0 0"/>
        <axis xyz="0 1 0"/>
        
    </joint>


    <!-- hand_3_sensor_0_bottom -->
    <link name="hand_3_sensor_0_bottom">
        <inertial>
            <origin xyz="0 0 0" rpy="0 0 0"/>
            <mass value="0"/>
            <inertia ixx=".1" ixy=".1" ixz=".1" iyy=".1" iyz=".1" izz=".1"/>
        </inertial>
        <visual>
            <origin xyz="0 0 0" rpy="0 0 0"/>
            <geometry>
                <box size="1.0 0.4 0.02"/>
            </geometry>
        </visual>
        <collision>
            <origin xyz="0 0 0" rpy="0 0 0"/>
            <geometry>
                <box size="1.0 0.4 0.02"/>
            </geometry>
        </collision>
    </link>
    <!-- Joint: hand_3, hand_3_sensor_0_bottom -->
    <joint name="hand_3_hand_3_sensor_0_bottom_joint" type="fixed">
        <parent link="hand_3"/>
        <child link="hand_3_sensor_0_bottom"/>
        <origin xyz="0 0 -0.5"
                rpy="0 0 0"/>
        <axis xyz="0 1 0"/>
        
    </joint>


    <!-- hand_3_sensor_0_left -->
    <link name="hand_3_sensor_0_left">
        <inertial>
            <origin xyz="0 0 0" rpy="0 0 0"/>
            <mass value="0"/>
            <inertia ixx=".1" ixy=".1" ixz=".1" iyy=".1" iyz=".1" izz=".1"/>
        </inertial>
        <visual>
            <origin xyz="0 0 0" rpy="0 0 0"/>
            <geometry>
                <box size="1.0 0.02 1"/>
            </geometry>
        </visual>
        <collision>
            <origin xyz="0 0 0" rpy="0 0 0"/>
            <geometry>
                <box size="1.0 0.02 1"/>
            </geometry>
        </collision>
    </link>
    <!-- Joint: hand_3, hand_3_sensor_0_left -->
    <joint name="hand_3_hand_3_sensor_0_left_joint" type="fixed">
        <parent link="hand_3"/>
        <child link="hand_3_sensor_0_left"/>
        <origin xyz="0 0.2 0"
                rpy="0 0 0"/>
        <axis xyz="0 1 0"/>
        
    </joint>


    <!-- hand_3_sensor_0_right -->
    <link name="hand_3_sensor_0_right">
        <inertial>
            <origin xyz="0 0 0" rpy="0 0 0"/>
            <mass value="0"/>
            <inertia ixx=".1" ixy=".1" ixz=".1" iyy=".1" iyz=".1" izz=".1"/>
        </inertial>
        <visual>
            <origin xyz="0 0 0" rpy="0 0 0"/>
            <geometry>
                <box size="1.0 0.02 1"/>
            </geometry>
        </visual>
        <collision>
            <origin xyz="0 0 0" rpy="0 0 0"/>
            <geometry>
                <box size="1.0 0.02 1"/>
            </geometry>
        </collision>
    </link>
    <!-- Joint: hand_3, hand_3_sensor_0_right -->
    <joint name="hand_3_hand_3_sensor_0_right_joint" type="fixed">
        <parent link="hand_3"/>
        <child link="hand_3_sensor_0_right"/>
        <origin xyz="0 -0.2 0"
                rpy="0 0 0"/>
        <axis xyz="0 1 0"/>
        
    </joint>
    <!-- Joint: hand_1, hand_3 -->
    <joint name="hand_1_hand_3_joint" type="fixed">
        <parent link="hand_1"/>
        <child link="hand_3"/>
        <origin xyz="-0.3 -0.8500000000000001 0"
                rpy="0 0 0"/>
        <axis xyz="0 1 0"/>
        
    </joint>


    <!-- body_face_front_0 -->
    <link name="body_face_front_0">
        <inertial>
            <origin xyz="0 0 0" rpy="0 0 0"/>
            <mass value="0"/>
            <inertia ixx=".1" ixy=".1" ixz=".1" iyy=".1" iyz=".1" izz=".1"/>
        </inertial>
        <visual>
            <origin xyz="0 0 0" rpy="0 0 0"/>
            <geometry>
                <box size="0.002 0.1111111111111111 0.1111111111111111"/>
            </geometry>
        </visual>
        <collision>
            <origin xyz="0 0 0" rpy="0 0 0"/>
            <geometry>
                <box size="0.002 0.1111111111111111 0.1111111111111111"/>
            </geometry>
        </collision>
    </link>
    <!-- Joint: body, body_face_front_0 -->
    <joint name="body_body_face_front_0_joint" type="fixed">
        <parent link="body"/>
        <child link="body_face_front_0"/>
        <origin xyz="0.501 -0.33333333333333337 0.11111111111111116"
                rpy="0 0 0"/>
        <axis xyz="0 0 1"/>
        
    </joint>


    <!-- body_face_front_1 -->
    <link name="body_face_front_1">
        <inertial>
            <origin xyz="0 0 0" rpy="0 0 0"/>
            <mass value="0"/>
            <inertia ixx=".1" ixy=".1" ixz=".1" iyy=".1" iyz=".1" izz=".1"/>
        </inertial>
        <visual>
            <origin xyz="0 0 0" rpy="0 0 0"/>
            <geometry>
                <box size="0.002 0.1111111111111111 0.1111111111111111"/>
            </geometry>
        </visual>
        <collision>
            <origin xyz="0 0 0" rpy="0 0 0"/>
            <geometry>
                <box size="0.002 0.1111111111111111 0.1111111111111111"/>
            </geometry>
        </collision>
    </link>
    <!-- Joint: body, body_face_front_1 -->
    <joint name="body_body_face_front_1_joint" type="fixed">
        <parent link="body"/>
        <child link="body_face_front_1"/>
        <origin xyz="0.501 -0.2222222222222222 0.2222222222222222"
                rpy="0 0 0"/>
        <axis xyz="0 0 1"/>
        
    </joint>


    <!-- body_face_front_2 -->
    <link name="body_face_front_2">
        <inertial>
            <origin xyz="0 0 0" rpy="0 0 0"/>
            <mass value="0"/>
            <inertia ixx=".1" ixy=".1" ixz=".1" iyy=".1" iyz=".1" izz=".1"/>
        </inertial>
        <visual>
            <origin xyz="0 0 0" rpy="0 0 0"/>
            <geometry>
                <box size="0.002 0.1111111111111111 0.1111111111111111"/>
            </geometry>
        </visual>
        <collision>
            <origin xyz="0 0 0" rpy="0 0 0"/>
            <geometry>
                <box size="0.002 0.1111111111111111 0.1111111111111111"/>
            </geometry>
        </collision>
    </link>
    <!-- Joint: body, body_face_front_2 -->
    <joint name="body_body_face_front_2_joint" type="fixed">
        <parent link="body"/>
        <child link="body_face_front_2"/>
        <origin xyz="0.501 -0.1111111111111111 0.11111111111111116"
                rpy="0 0 0"/>
        <axis xyz="0 0 1"/>
        
    </joint>


    <!-- body_face_front_3 -->
    <link name="body_face_front_3">
        <inertial>
            <origin xyz="0 0 0" rpy="0 0 0"/>
            <mass value="0"/>
            <inertia ixx=".1" ixy=".1" ixz=".1" iyy=".1" iyz=".1" izz=".1"/>
        </inertial>
        <visual>
            <origin xyz="0 0 0" rpy="0 0 0"/>
            <geometry>
                <box size="0.002 0.1111111111111111 0.1111111111111111"/>
            </geometry>
        </visual>
        <collision>
            <origin xyz="0 0 0" rpy="0 0 0"/>
            <geometry>
                <box size="0.002 0.1111111111111111 0.1111111111111111"/>
            </geometry>
        </collision>
    </link>
    <!-- Joint: body, body_face_front_3 -->
    <joint name="body_body_face_front_3_joint" type="fixed">
        <parent link="body"/>
        <child link="body_face_front_3"/>
        <origin xyz="0.501 -0.1111111111111111 -0.2222222222222222"
                rpy="0 0 0"/>
        <axis xyz="0 0 1"/>
        
    </joint>


    <!-- body_face_front_4 -->
    <link name="body_face_front_4">
        <inertial>
            <origin xyz="0 0 0" rpy="0 0 0"/>
            <mass value="0"/>
            <inertia ixx=".1" ixy=".1" ixz=".1" iyy=".1" iyz=".1" izz=".1"/>
        </inertial>
        <visual>
            <origin xyz="0 0 0" rpy="0 0 0"/>
            <geometry>
                <box size="0.002 0.1111111111111111 0.1111111111111111"/>
            </geometry>
        </visual>
        <collision>
            <origin xyz="0 0 0" rpy="0 0 0"/>
            <geometry>
                <box size="0.002 0.1111111111111111 0.1111111111111111"/>
            </geometry>
        </collision>
    </link>
    <!-- Joint: body, body_face_front_4 -->
    <joint name="body_body_face_front_4_joint" type="fixed">
        <parent link="body"/>
        <child link="body_face_front_4"/>
        <origin xyz="0.501 0.0 -0.2222222222222222"
                rpy="0 0 0"/>
        <axis xyz="0 0 1"/>
        
    </joint>


    <!-- body_face_front_5 -->
    <link name="body_face_front_5">
        <inertial>
            <origin xyz="0 0 0" rpy="0 0 0"/>
            <mass value="0"/>
            <inertia ixx=".1" ixy=".1" ixz=".1" iyy=".1" iyz=".1" izz=".1"/>
        </inertial>
        <visual>
            <origin xyz="0 0 0" rpy="0 0 0"/>
            <geometry>
                <box size="0.002 0.1111111111111111 0.1111111111111111"/>
            </geometry>
        </visual>
        <collision>
            <origin xyz="0 0 0" rpy="0 0 0"/>
            <geometry>
                <box size="0.002 0.1111111111111111 0.1111111111111111"/>
            </geometry>
        </collision>
    </link>
    <!-- Joint: body, body_face_front_5 -->
    <joint name="body_body_face_front_5_joint" type="fixed">
        <parent link="body"/>
        <child link="body_face_front_5"/>
        <origin xyz="0.501 0.11111111111111116 0.11111111111111116"
                rpy="0 0 0"/>
        <axis xyz="0 0 1"/>
        
    </joint>


    <!-- body_face_front_6 -->
    <link name="body_face_front_6">
        <inertial>
            <origin xyz="0 0 0" rpy="0 0 0"/>
            <mass value="0"/>
            <inertia ixx=".1" ixy=".1" ixz=".1" iyy=".1" iyz=".1" izz=".1"/>
        </inertial>
        <visual>
            <origin xyz="0 0 0" rpy="0 0 0"/>
            <geometry>
                <box size="0.002 0.1111111111111111 0.1111111111111111"/>
            </geometry>
        </visual>
        <collision>
            <origin xyz="0 0 0" rpy="0 0 0"/>
            <geometry>
                <box size="0.002 0.1111111111111111 0.1111111111111111"/>
            </geometry>
        </collision>
    </link>
    <!-- Joint: body, body_face_front_6 -->
    <joint name="body_body_face_front_6_joint" type="fixed">
        <parent link="body"/>
        <child link="body_face_front_6"/>
        <origin xyz="0.501 0.11111111111111116 -0.2222222222222222"
                rpy="0 0 0"/>
        <axis xyz="0 0 1"/>
        
    </joint>


    <!-- body_face_front_7 -->
    <link name="body_face_front_7">
        <inertial>
            <origin xyz="0 0 0" rpy="0 0 0"/>
            <mass value="0"/>
            <inertia ixx=".1" ixy=".1" ixz=".1" iyy=".1" iyz=".1" izz=".1"/>
        </inertial>
        <visual>
            <origin xyz="0 0 0" rpy="0 0 0"/>
            <geometry>
                <box size="0.002 0.1111111111111111 0.1111111111111111"/>
            </geometry>
        </visual>
        <collision>
            <origin xyz="0 0 0" rpy="0 0 0"/>
            <geometry>
                <box size="0.002 0.1111111111111111 0.1111111111111111"/>
            </geometry>
        </collision>
    </link>
    <!-- Joint: body, body_face_front_7 -->
    <joint name="body_body_face_front_7_joint" type="fixed">
        <parent link="body"/>
        <child link="body_face_front_7"/>
        <origin xyz="0.501 0.2222222222222222 0.2222222222222222"
                rpy="0 0 0"/>
        <axis xyz="0 0 1"/>
        
    </joint>


    <!-- body_face_front_8 -->
    <link name="body_face_front_8">
        <inertial>
            <origin xyz="0 0 0" rpy="0 0 0"/>
            <mass value="0"/>
            <inertia ixx=".1" ixy=".1" ixz=".1" iyy=".1" iyz=".1" izz=".1"/>
        </inertial>
        <visual>
            <origin xyz="0 0 0" rpy="0 0 0"/>
            <geometry>
                <box size="0.002 0.1111111111111111 0.1111111111111111"/>
            </geometry>
        </visual>
        <collision>
            <origin xyz="0 0 0" rpy="0 0 0"/>
            <geometry>
                <box size="0.002 0.1111111111111111 0.1111111111111111"/>
            </geometry>
        </collision>
    </link>
    <!-- Joint: body, body_face_front_8 -->
    <joint name="body_body_face_front_8_joint" type="fixed">
        <parent link="body"/>
        <child link="body_face_front_8"/>
        <origin xyz="0.501 0.33333333333333337 0.11111111111111116"
                rpy="0 0 0"/>
        <axis xyz="0 0 1"/>
        
    </joint>


    <!-- body_face_top_0 -->
    <link name="body_face_top_0">
        <inertial>
            <origin xyz="0 0 0" rpy="0 0 0"/>
            <mass value="0"/>
            <inertia ixx=".1" ixy=".1" ixz=".1" iyy=".1" iyz=".1" izz=".1"/>
        </inertial>
        <visual>
            <origin xyz="0 0 0" rpy="0 0 0"/>
            <geometry>
                <box size="0.1111111111111111 0.1111111111111111 0.002"/>
            </geometry>
        </visual>
        <collision>
            <origin xyz="0 0 0" rpy="0 0 0"/>
            <geometry>
                <box size="0.1111111111111111 0.1111111111111111 0.002"/>
            </geometry>
        </collision>
    </link>
    <!-- Joint: body, body_face_top_0 -->
    <joint name="body_body_face_top_0_joint" type="fixed">
        <parent link="body"/>
        <child link="body_face_top_0"/>
        <origin xyz="0.11111111111111116 -0.2222222222222222 0.501"
                rpy="0 0 0"/>
        <axis xyz="0 0 1"/>
        
    </joint>


    <!-- body_face_top_1 -->
    <link name="body_face_top_1">
        <inertial>
            <origin xyz="0 0 0" rpy="0 0 0"/>
            <mass value="0"/>
            <inertia ixx=".1" ixy=".1" ixz=".1" iyy=".1" iyz=".1" izz=".1"/>
        </inertial>
        <visual>
            <origin xyz="0 0 0" rpy="0 0 0"/>
            <geometry>
                <box size="0.1111111111111111 0.1111111111111111 0.002"/>
            </geometry>
        </visual>
        <collision>
            <origin xyz="0 0 0" rpy="0 0 0"/>
            <geometry>
                <box size="0.1111111111111111 0.1111111111111111 0.002"/>
            </geometry>
        </collision>
    </link>
    <!-- Joint: body, body_face_top_1 -->
    <joint name="body_body_face_top_1_joint" type="fixed">
        <parent link="body"/>
        <child link="body_face_top_1"/>
        <origin xyz="0.11111111111111116 -0.1111111111111111 0.501"
                rpy="0 0 0"/>
        <axis xyz="0 0 1"/>
        
    </joint>


    <!-- body_face_top_2 -->
    <link name="body_face_top_2">
        <inertial>
            <origin xyz="0 0 0" rpy="0 0 0"/>
            <mass value="0"/>
            <inertia ixx=".1" ixy=".1" ixz=".1" iyy=".1" iyz=".1" izz=".1"/>
        </inertial>
        <visual>
            <origin xyz="0 0 0" rpy="0 0 0"/>
            <geometry>
                <box size="0.1111111111111111 0.1111111111111111 0.002"/>
            </geometry>
        </visual>
        <collision>
            <origin xyz="0 0 0" rpy="0 0 0"/>
            <geometry>
                <box size="0.1111111111111111 0.1111111111111111 0.002"/>
            </geometry>
        </collision>
    </link>
    <!-- Joint: body, body_face_top_2 -->
    <joint name="body_body_face_top_2_joint" type="fixed">
        <parent link="body"/>
        <child link="body_face_top_2"/>
        <origin xyz="0.2222222222222222 -0.1111111111111111 0.501"
                rpy="0 0 0"/>
        <axis xyz="0 0 1"/>
        
    </joint>


    <!-- body_face_top_3 -->
    <link name="body_face_top_3">
        <inertial>
            <origin xyz="0 0 0" rpy="0 0 0"/>
            <mass value="0"/>
            <inertia ixx=".1" ixy=".1" ixz=".1" iyy=".1" iyz=".1" izz=".1"/>
        </inertial>
        <visual>
            <origin xyz="0 0 0" rpy="0 0 0"/>
            <geometry>
                <box size="0.1111111111111111 0.1111111111111111 0.002"/>
            </geometry>
        </visual>
        <collision>
            <origin xyz="0 0 0" rpy="0 0 0"/>
            <geometry>
                <box size="0.1111111111111111 0.1111111111111111 0.002"/>
            </geometry>
        </collision>
    </link>
    <!-- Joint: body, body_face_top_3 -->
    <joint name="body_body_face_top_3_joint" type="fixed">
        <parent link="body"/>
        <child link="body_face_top_3"/>
        <origin xyz="-0.33333333333333337 0.0 0.501"
                rpy="0 0 0"/>
        <axis xyz="0 0 1"/>
        
    </joint>


    <!-- body_face_top_4 -->
    <link name="body_face_top_4">
        <inertial>
            <origin xyz="0 0 0" rpy="0 0 0"/>
            <mass value="0"/>
            <inertia ixx=".1" ixy=".1" ixz=".1" iyy=".1" iyz=".1" izz=".1"/>
        </inertial>
        <visual>
            <origin xyz="0 0 0" rpy="0 0 0"/>
            <geometry>
                <box size="0.1111111111111111 0.1111111111111111 0.002"/>
            </geometry>
        </visual>
        <collision>
            <origin xyz="0 0 0" rpy="0 0 0"/>
            <geometry>
                <box size="0.1111111111111111 0.1111111111111111 0.002"/>
            </geometry>
        </collision>
    </link>
    <!-- Joint: body, body_face_top_4 -->
    <joint name="body_body_face_top_4_joint" type="fixed">
        <parent link="body"/>
        <child link="body_face_top_4"/>
        <origin xyz="-0.2222222222222222 0.0 0.501"
                rpy="0 0 0"/>
        <axis xyz="0 0 1"/>
        
    </joint>


    <!-- body_face_top_5 -->
    <link name="body_face_top_5">
        <inertial>
            <origin xyz="0 0 0" rpy="0 0 0"/>
            <mass value="0"/>
            <inertia ixx=".1" ixy=".1" ixz=".1" iyy=".1" iyz=".1" izz=".1"/>
        </inertial>
        <visual>
            <origin xyz="0 0 0" rpy="0 0 0"/>
            <geometry>
                <box size="0.1111111111111111 0.1111111111111111 0.002"/>
            </geometry>
        </visual>
        <collision>
            <origin xyz="0 0 0" rpy="0 0 0"/>
            <geometry>
                <box size="0.1111111111111111 0.1111111111111111 0.002"/>
            </geometry>
        </collision>
    </link>
    <!-- Joint: body, body_face_top_5 -->
    <joint name="body_body_face_top_5_joint" type="fixed">
        <parent link="body"/>
        <child link="body_face_top_5"/>
        <origin xyz="-0.1111111111111111 0.0 0.501"
                rpy="0 0 0"/>
        <axis xyz="0 0 1"/>
        
    </joint>


    <!-- body_face_top_6 -->
    <link name="body_face_top_6">
        <inertial>
            <origin xyz="0 0 0" rpy="0 0 0"/>
            <mass value="0"/>
            <inertia ixx=".1" ixy=".1" ixz=".1" iyy=".1" iyz=".1" izz=".1"/>
        </inertial>
        <visual>
            <origin xyz="0 0 0" rpy="0 0 0"/>
            <geometry>
                <box size="0.1111111111111111 0.1111111111111111 0.002"/>
            </geometry>
        </visual>
        <collision>
            <origin xyz="0 0 0" rpy="0 0 0"/>
            <geometry>
                <box size="0.1111111111111111 0.1111111111111111 0.002"/>
            </geometry>
        </collision>
    </link>
    <!-- Joint: body, body_face_top_6 -->
    <joint name="body_body_face_top_6_joint" type="fixed">
        <parent link="body"/>
        <child link="body_face_top_6"/>
        <origin xyz="0.0 0.0 0.501"
                rpy="0 0 0"/>
        <axis xyz="0 0 1"/>
        
    </joint>


    <!-- body_face_top_7 -->
    <link name="body_face_top_7">
        <inertial>
            <origin xyz="0 0 0" rpy="0 0 0"/>
            <mass value="0"/>
            <inertia ixx=".1" ixy=".1" ixz=".1" iyy=".1" iyz=".1" izz=".1"/>
        </inertial>
        <visual>
            <origin xyz="0 0 0" rpy="0 0 0"/>
            <geometry>
                <box size="0.1111111111111111 0.1111111111111111 0.002"/>
            </geometry>
        </visual>
        <collision>
            <origin xyz="0 0 0" rpy="0 0 0"/>
            <geometry>
                <box size="0.1111111111111111 0.1111111111111111 0.002"/>
            </geometry>
        </collision>
    </link>
    <!-- Joint: body, body_face_top_7 -->
    <joint name="body_body_face_top_7_joint" type="fixed">
        <parent link="body"/>
        <child link="body_face_top_7"/>
        <origin xyz="0.11111111111111116 0.0 0.501"
                rpy="0 0 0"/>
        <axis xyz="0 0 1"/>
        
    </joint>


    <!-- body_face_top_8 -->
    <link name="body_face_top_8">
        <inertial>
            <origin xyz="0 0 0" rpy="0 0 0"/>
            <mass value="0"/>
            <inertia ixx=".1" ixy=".1" ixz=".1" iyy=".1" iyz=".1" izz=".1"/>
        </inertial>
        <visual>
            <origin xyz="0 0 0" rpy="0 0 0"/>
            <geometry>
                <box size="0.1111111111111111 0.1111111111111111 0.002"/>
            </geometry>
        </visual>
        <collision>
            <origin xyz="0 0 0" rpy="0 0 0"/>
            <geometry>
                <box size="0.1111111111111111 0.1111111111111111 0.002"/>
            </geometry>
        </collision>
    </link>
    <!-- Joint: body, body_face_top_8 -->
    <joint name="body_body_face_top_8_joint" type="fixed">
        <parent link="body"/>
        <child link="body_face_top_8"/>
        <origin xyz="0.2222222222222222 0.0 0.501"
                rpy="0 0 0"/>
        <axis xyz="0 0 1"/>
        
    </joint>


    <!-- body_face_top_9 -->
    <link name="body_face_top_9">
        <inertial>
            <origin xyz="0 0 0" rpy="0 0 0"/>
            <mass value="0"/>
            <inertia ixx=".1" ixy=".1" ixz=".1" iyy=".1" iyz=".1" izz=".1"/>
        </inertial>
        <visual>
            <origin xyz="0 0 0" rpy="0 0 0"/>
            <geometry>
                <box size="0.1111111111111111 0.1111111111111111 0.002"/>
            </geometry>
        </visual>
        <collision>
            <origin xyz="0 0 0" rpy="0 0 0"/>
            <geometry>
                <box size="0.1111111111111111 0.1111111111111111 0.002"/>
            </geometry>
        </collision>
    </link>
    <!-- Joint: body, body_face_top_9 -->
    <joint name="body_body_face_top_9_joint" type="fixed">
        <parent link="body"/>
        <child link="body_face_top_9"/>
        <origin xyz="0.33333333333333337 0.0 0.501"
                rpy="0 0 0"/>
        <axis xyz="0 0 1"/>
        
    </joint>


    <!-- body_face_top_10 -->
    <link name="body_face_top_10">
        <inertial>
            <origin xyz="0 0 0" rpy="0 0 0"/>
            <mass value="0"/>
            <inertia ixx=".1" ixy=".1" ixz=".1" iyy=".1" iyz=".1" izz=".1"/>
        </inertial>
        <visual>
            <origin xyz="0 0 0" rpy="0 0 0"/>
            <geometry>
                <box size="0.1111111111111111 0.1111111111111111 0.002"/>
            </geometry>
        </visual>
        <collision>
            <origin xyz="0 0 0" rpy="0 0 0"/>
            <geometry>
                <box size="0.1111111111111111 0.1111111111111111 0.002"/>
            </geometry>
        </collision>
    </link>
    <!-- Joint: body, body_face_top_10 -->
    <joint name="body_body_face_top_10_joint" type="fixed">
        <parent link="body"/>
        <child link="body_face_top_10"/>
        <origin xyz="0.11111111111111116 0.11111111111111116 0.501"
                rpy="0 0 0"/>
        <axis xyz="0 0 1"/>
        
    </joint>


    <!-- body_face_top_11 -->
    <link name="body_face_top_11">
        <inertial>
            <origin xyz="0 0 0" rpy="0 0 0"/>
            <mass value="0"/>
            <inertia ixx=".1" ixy=".1" ixz=".1" iyy=".1" iyz=".1" izz=".1"/>
        </inertial>
        <visual>
            <origin xyz="0 0 0" rpy="0 0 0"/>
            <geometry>
                <box size="0.1111111111111111 0.1111111111111111 0.002"/>
            </geometry>
        </visual>
        <collision>
            <origin xyz="0 0 0" rpy="0 0 0"/>
            <geometry>
                <box size="0.1111111111111111 0.1111111111111111 0.002"/>
            </geometry>
        </collision>
    </link>
    <!-- Joint: body, body_face_top_11 -->
    <joint name="body_body_face_top_11_joint" type="fixed">
        <parent link="body"/>
        <child link="body_face_top_11"/>
        <origin xyz="0.2222222222222222 0.11111111111111116 0.501"
                rpy="0 0 0"/>
        <axis xyz="0 0 1"/>
        
    </joint>


    <!-- body_face_top_12 -->
    <link name="body_face_top_12">
        <inertial>
            <origin xyz="0 0 0" rpy="0 0 0"/>
            <mass value="0"/>
            <inertia ixx=".1" ixy=".1" ixz=".1" iyy=".1" iyz=".1" izz=".1"/>
        </inertial>
        <visual>
            <origin xyz="0 0 0" rpy="0 0 0"/>
            <geometry>
                <box size="0.1111111111111111 0.1111111111111111 0.002"/>
            </geometry>
        </visual>
        <collision>
            <origin xyz="0 0 0" rpy="0 0 0"/>
            <geometry>
                <box size="0.1111111111111111 0.1111111111111111 0.002"/>
            </geometry>
        </collision>
    </link>
    <!-- Joint: body, body_face_top_12 -->
    <joint name="body_body_face_top_12_joint" type="fixed">
        <parent link="body"/>
        <child link="body_face_top_12"/>
        <origin xyz="0.11111111111111116 0.2222222222222222 0.501"
                rpy="0 0 0"/>
        <axis xyz="0 0 1"/>
        
    </joint>


</robot>
